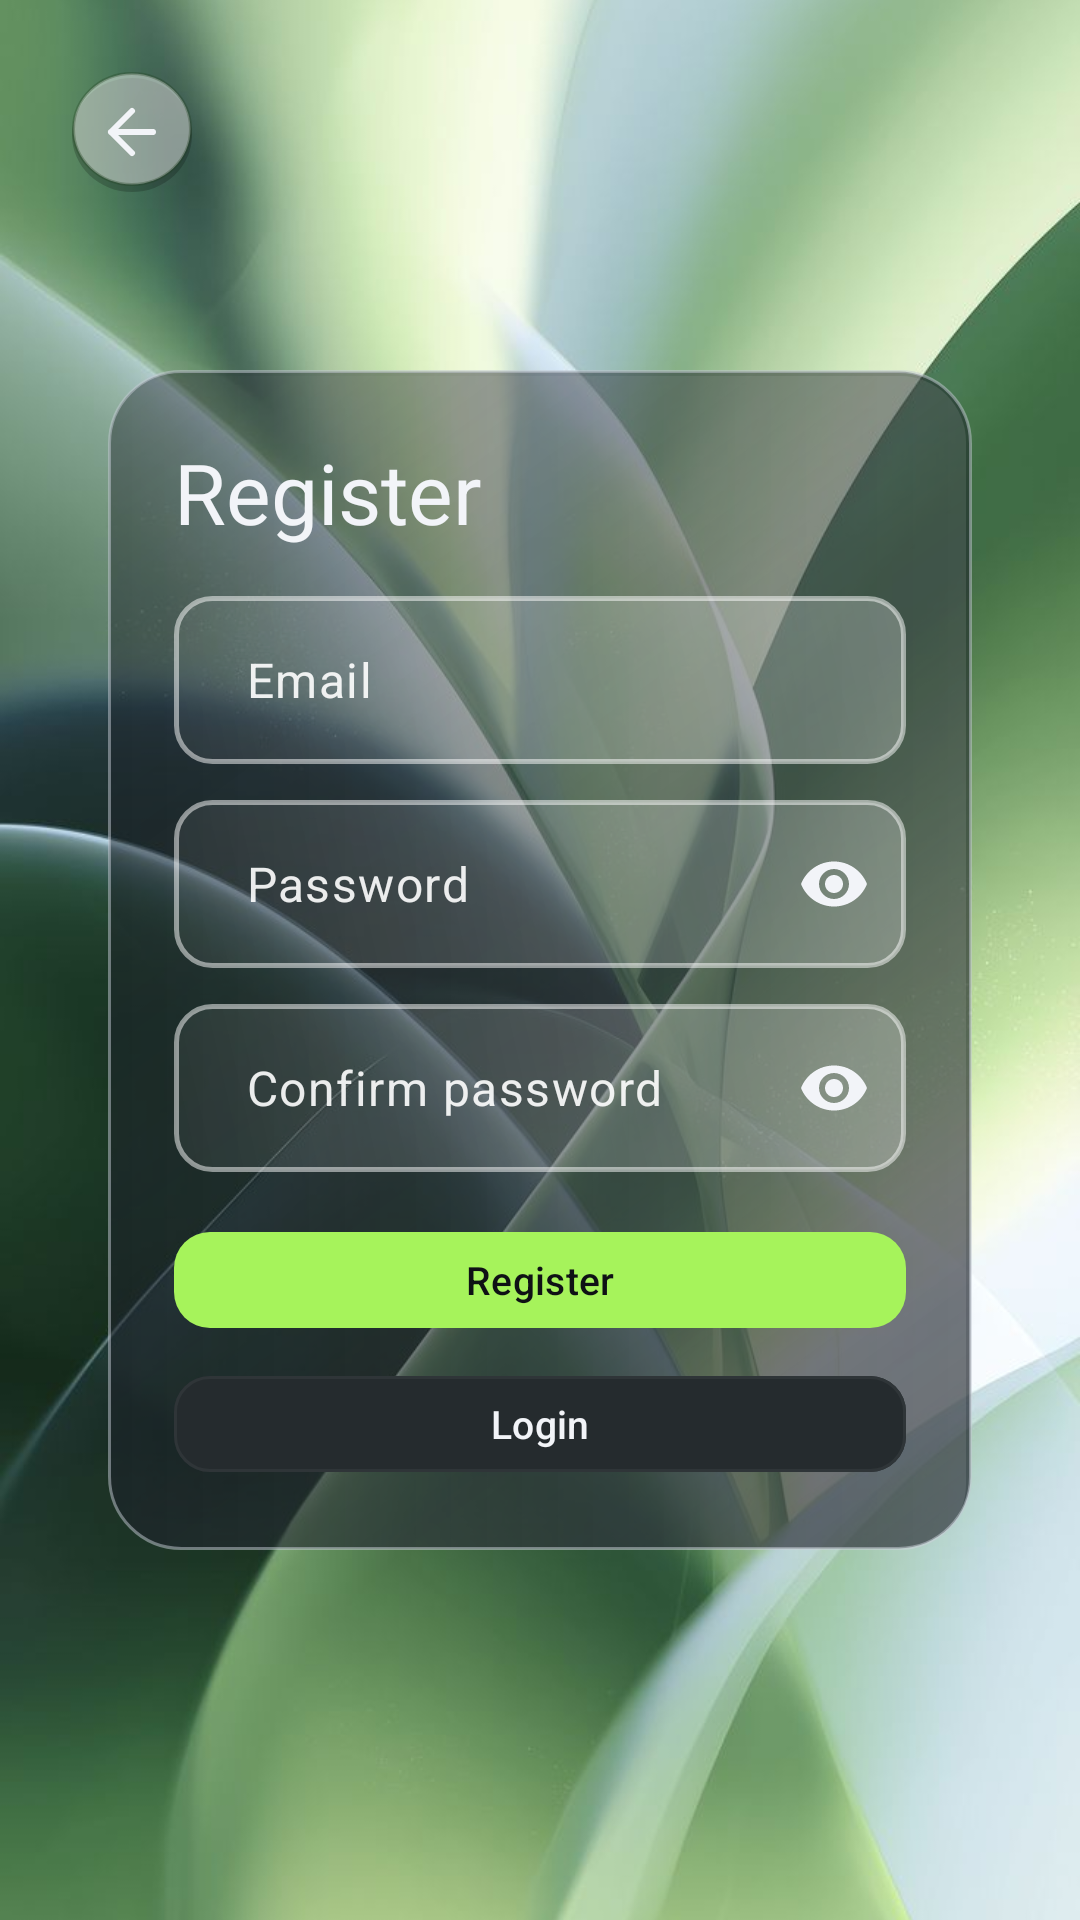

Point at icon controls on the screen. Image size 1080 × 1920, points as point (x, y).
Back: point (132, 132)
